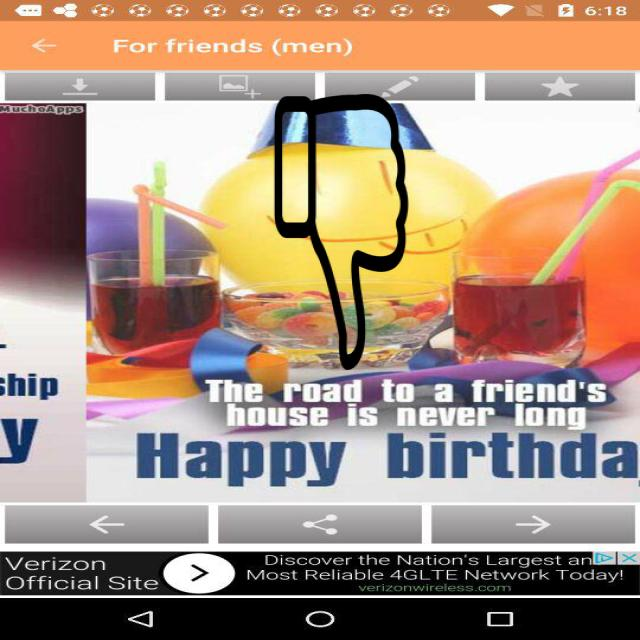obstruction: (273, 94, 410, 370)
